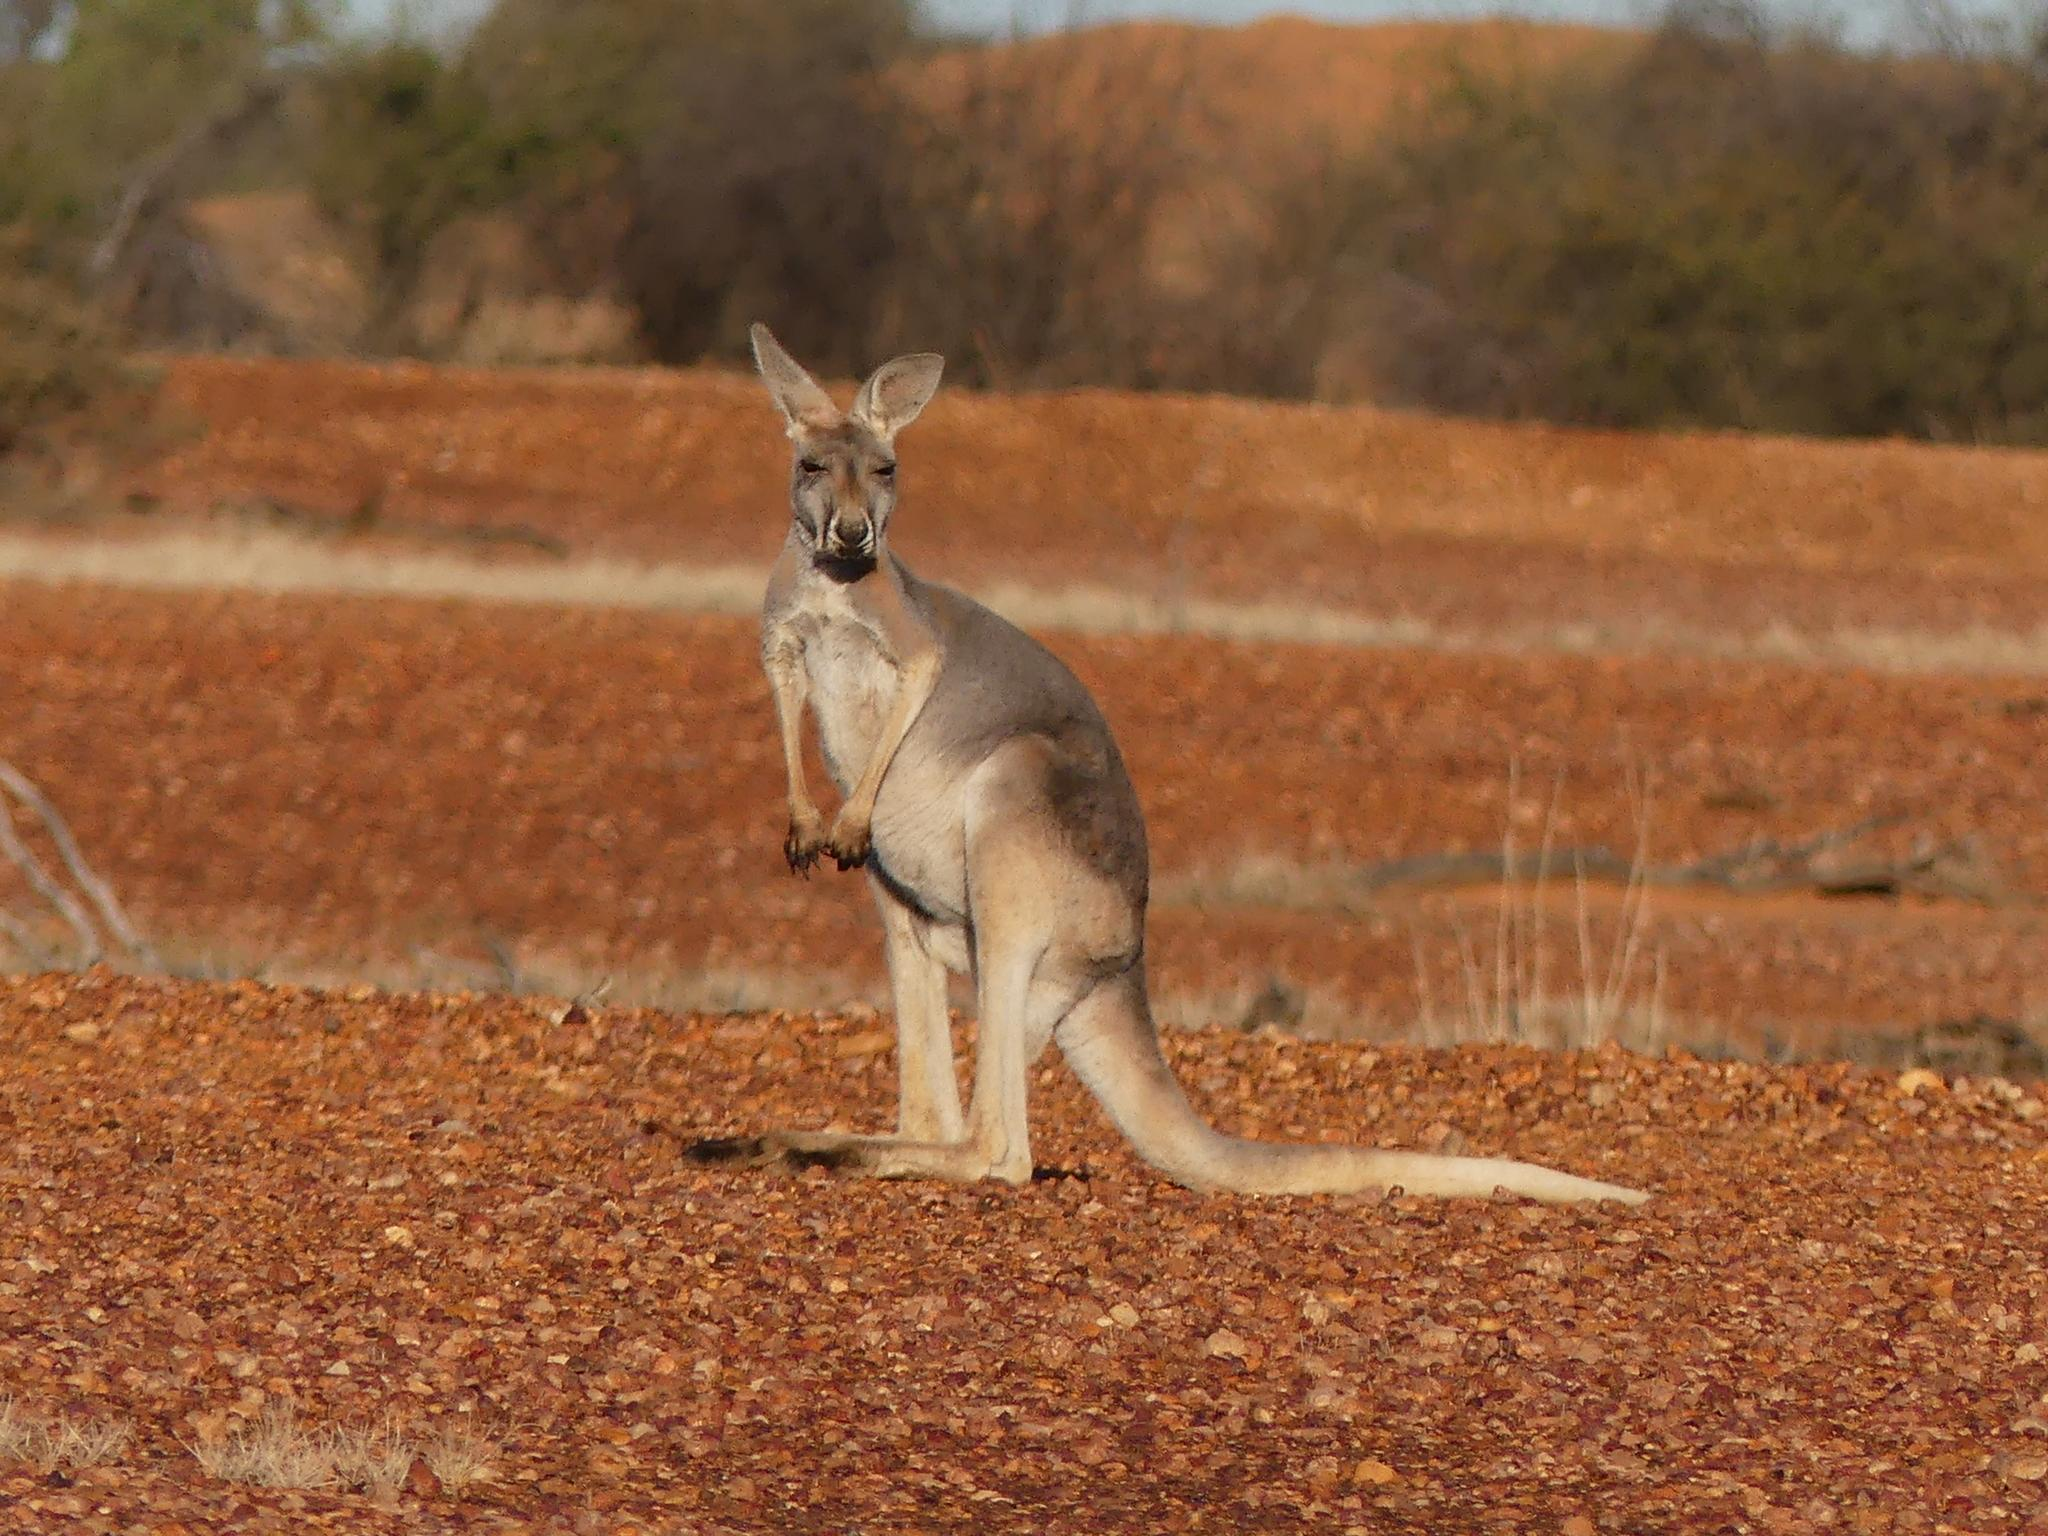Red kangaroo: (689, 319, 1674, 1217)
